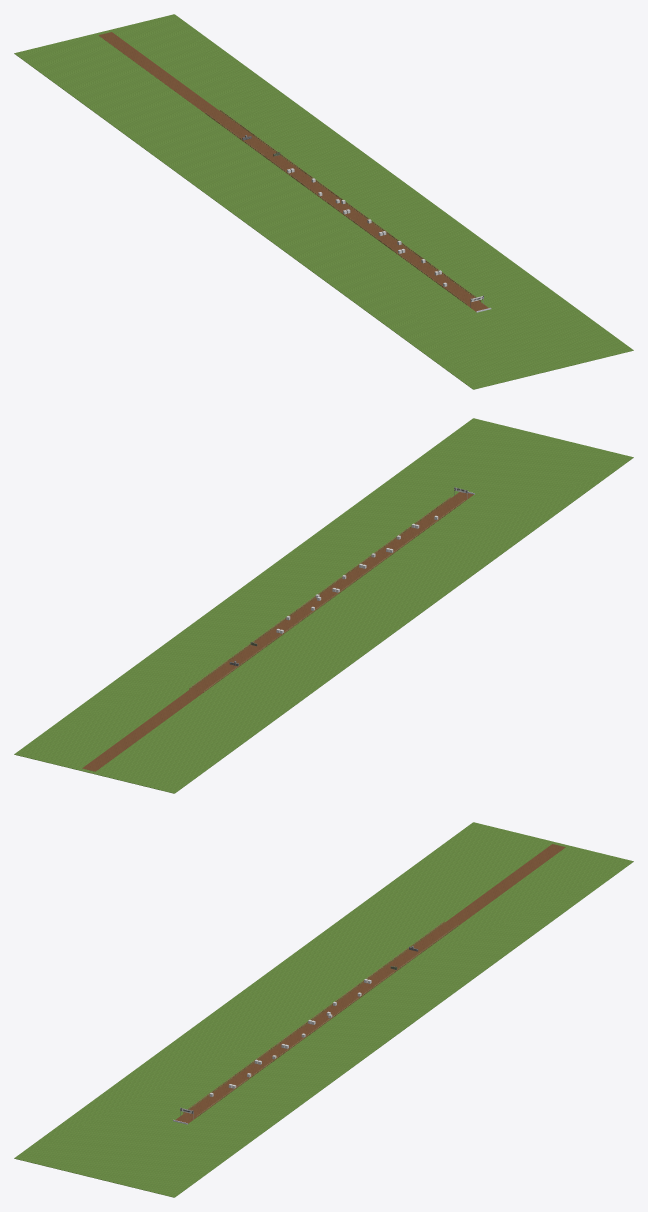
Rendered from map4.glb.
3 views of the same model, one above another, from view 1: azimuth 30°, elevation 25°; view 2: azimuth 150°, elevation 25°; view 3: azimuth 330°, elevation 25° (orthographic).
Parts seen in each view (by area): view 1: ground, snowblock-area, right_ground, left_ground; view 2: ground, snowblock-area, right_ground, left_ground; view 3: ground, snowblock-area, left_ground, right_ground.
Boxes of the visible parts, <box> form: ground: <box>14,14,633,389</box>; snowblock-area: <box>98,32,488,311</box>; right_ground: <box>205,113,467,304</box>; left_ground: <box>219,109,480,301</box>; ground: <box>14,418,633,793</box>; snowblock-area: <box>82,492,473,771</box>; right_ground: <box>203,500,464,692</box>; left_ground: <box>189,497,450,689</box>; ground: <box>14,822,633,1197</box>; snowblock-area: <box>175,844,565,1123</box>; left_ground: <box>196,924,458,1116</box>; right_ground: <box>183,921,444,1113</box>.
Bounding box in the file's own units: 240 × 18.09 × 1189.
Materials: 10 (9 with a texture image).
